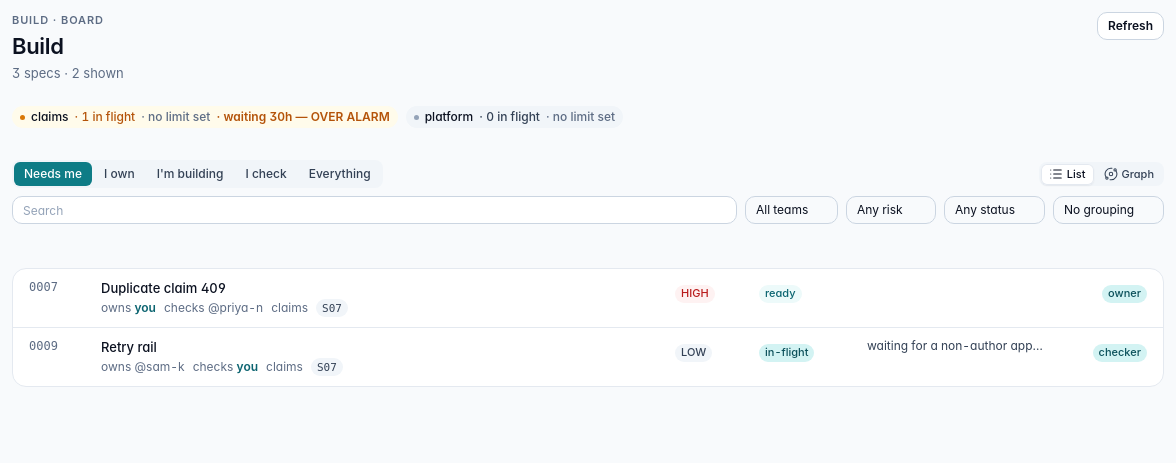
Test: BuildBoard: the round-2 shape (studio-upgrade-2 S6) › every row wears its status as a chip, in the one tone map the slate uses; the risk tier in the one risk map (HIGH error, MEDIUM warn, LOW neutral)
Expected: the heading "Build" is shown, [12,33,64,59]
Click the button "Everything" at {"x": 340, "y": 174}, box [299,162,381,186]
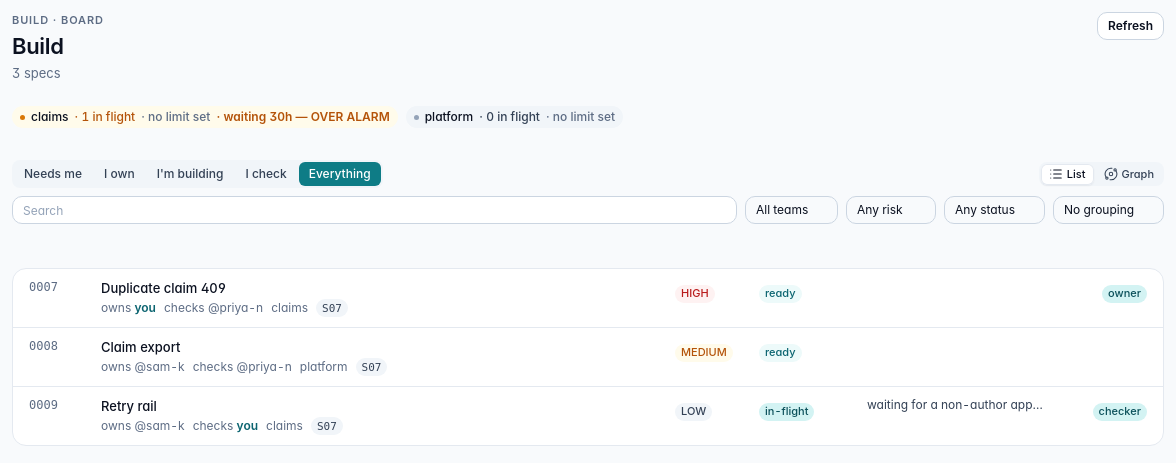
Expected: the elements with test id "spec-status-chip" read "ready", "ready", "in-flight", in this order, [759,284,802,302]; [759,344,802,362]; [759,402,814,420]
